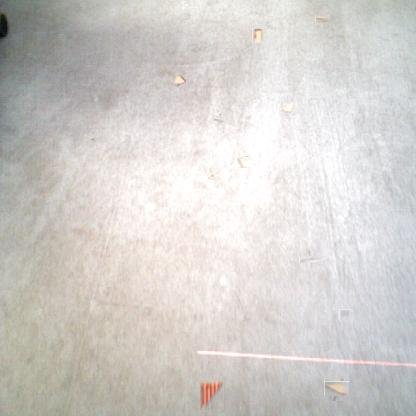dirty: (200, 380, 224, 410), (326, 378, 347, 398), (237, 156, 251, 169), (280, 102, 294, 114), (252, 28, 263, 43), (173, 74, 185, 86), (315, 16, 330, 22)
mark: (303, 252, 317, 267), (214, 114, 225, 124), (339, 309, 350, 318), (90, 136, 96, 144), (208, 172, 214, 180)
